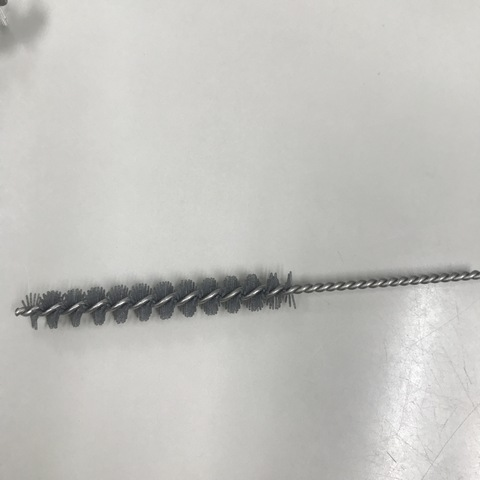Twist Brush-A: (16, 268, 480, 335)
